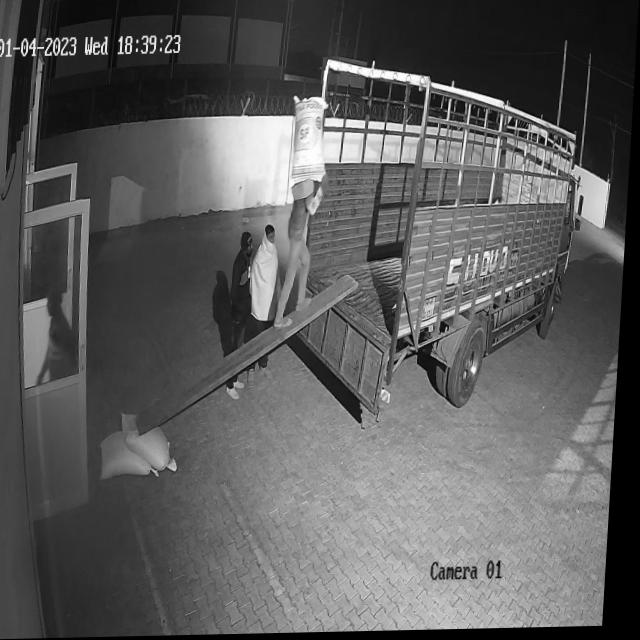sack: (289, 93, 332, 188), (123, 412, 186, 473), (103, 431, 167, 481)
